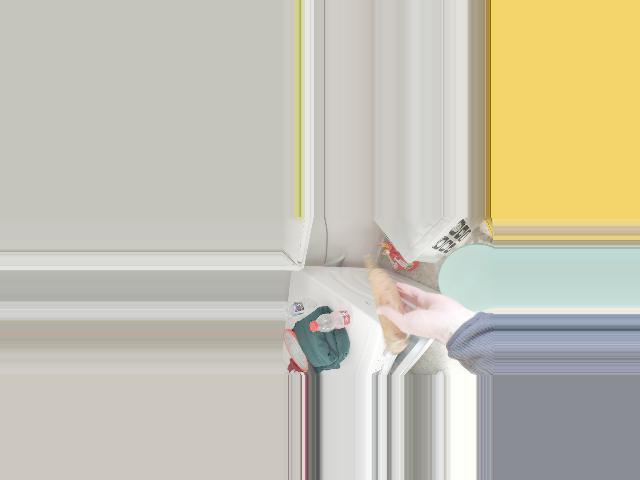sweet_potato: (360, 257, 411, 348)
